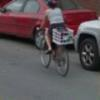bicycles: (52, 28, 74, 77), (37, 28, 52, 68)
